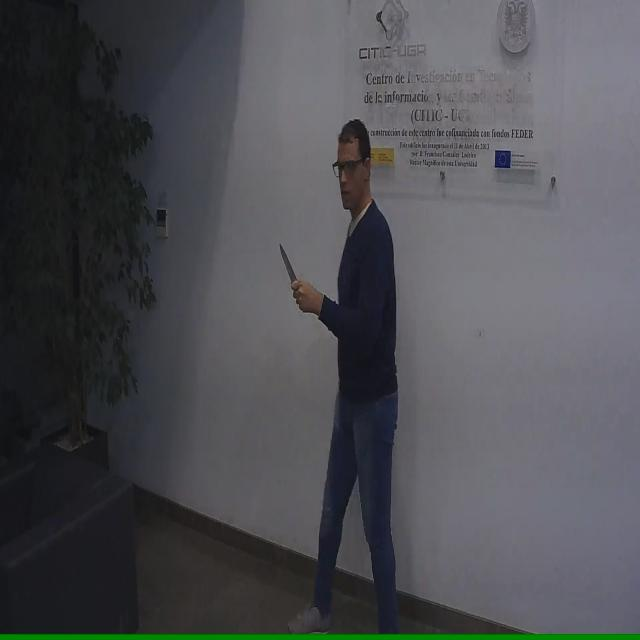knife: (278, 238, 309, 316)
